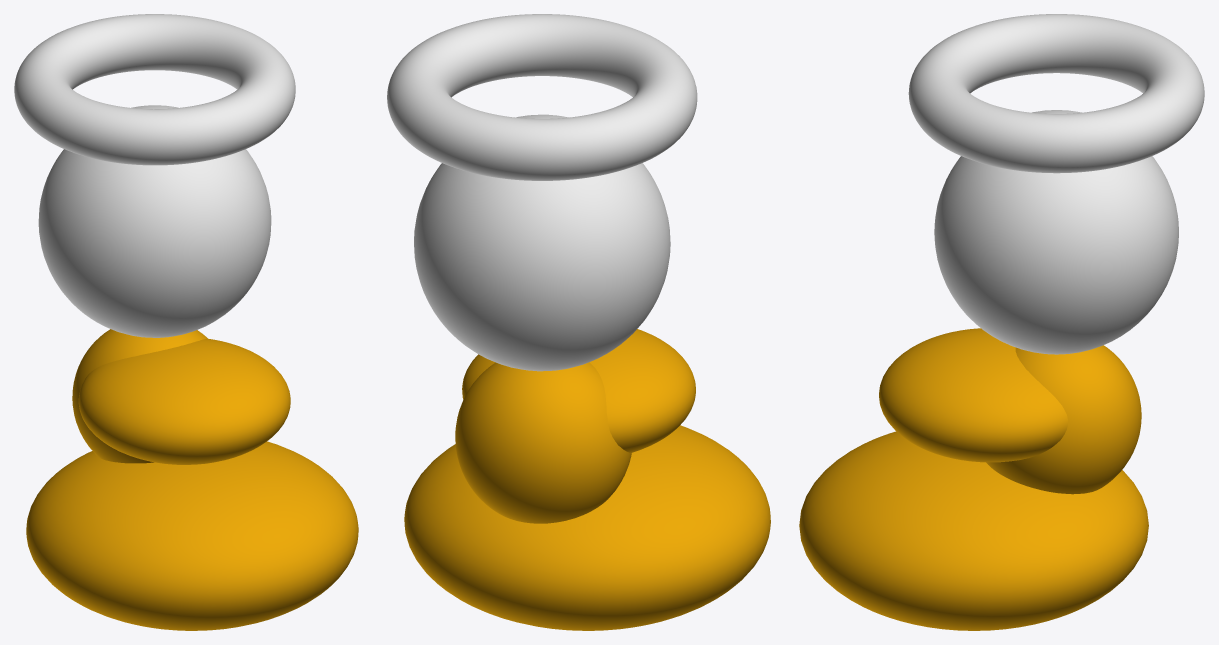
The model's file is buda.fbx.
The picture shows the model from 3 angles, left to right: view 1: azimuth 30°, elevation 25°; view 2: azimuth 150°, elevation 25°; view 3: azimuth 270°, elevation 25°; orthographic projection. The views are drawn at different scales.
Parts seen in each view (by area): view 1: Cube.002, Cube, Torus, Cube.003, Cube.001; view 2: Cube.002, Cube, Torus, Cube.001, Cube.003; view 3: Cube.002, Cube, Torus, Cube.003, Cube.001.
Part boxes in pixels (bbox=[...]): Cube.002: bbox=[26, 441, 358, 630]; Cube: bbox=[38, 105, 271, 337]; Torus: bbox=[14, 14, 295, 165]; Cube.003: bbox=[78, 338, 290, 464]; Cube.001: bbox=[72, 329, 207, 463]; Cube.002: bbox=[404, 425, 770, 630]; Cube: bbox=[414, 114, 670, 371]; Torus: bbox=[387, 14, 697, 180]; Cube.001: bbox=[455, 362, 631, 523]; Cube.003: bbox=[462, 329, 695, 452]; Cube.002: bbox=[799, 431, 1148, 630]; Cube: bbox=[934, 110, 1178, 354]; Torus: bbox=[908, 14, 1204, 173]; Cube.003: bbox=[879, 328, 1067, 462]; Cube.001: bbox=[986, 345, 1141, 494].
Bounding box in the file's own units: 117 × 198 × 136.
